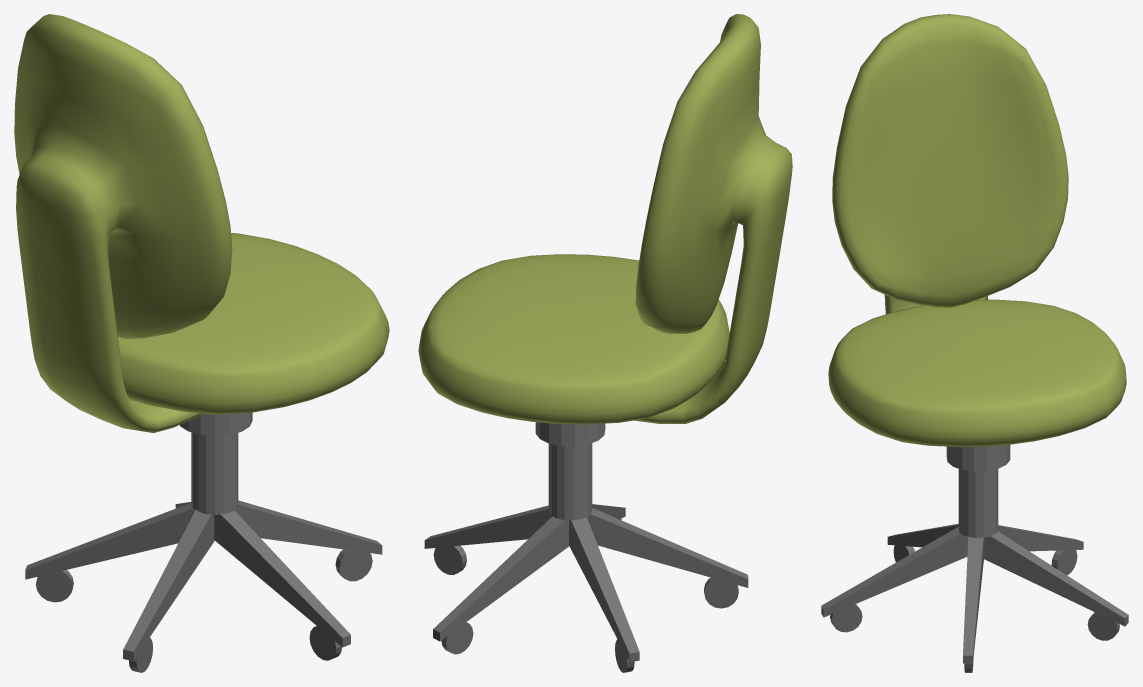
The model's file is chair.fbx.
The picture shows the model from 3 angles, left to right: view 1: azimuth 30°, elevation 25°; view 2: azimuth 150°, elevation 25°; view 3: azimuth 270°, elevation 25°; orthographic projection. The views are drawn at different scales.
Parts seen in each view (by area): view 1: chair; view 2: chair; view 3: chair.
Part boxes in pixels (box(x1,y1,x2,y2)): chair: box(14, 14, 389, 672); chair: box(418, 14, 792, 672); chair: box(821, 14, 1128, 672).
Bounding box in the file's own units: 64.03 × 108 × 55.66.
